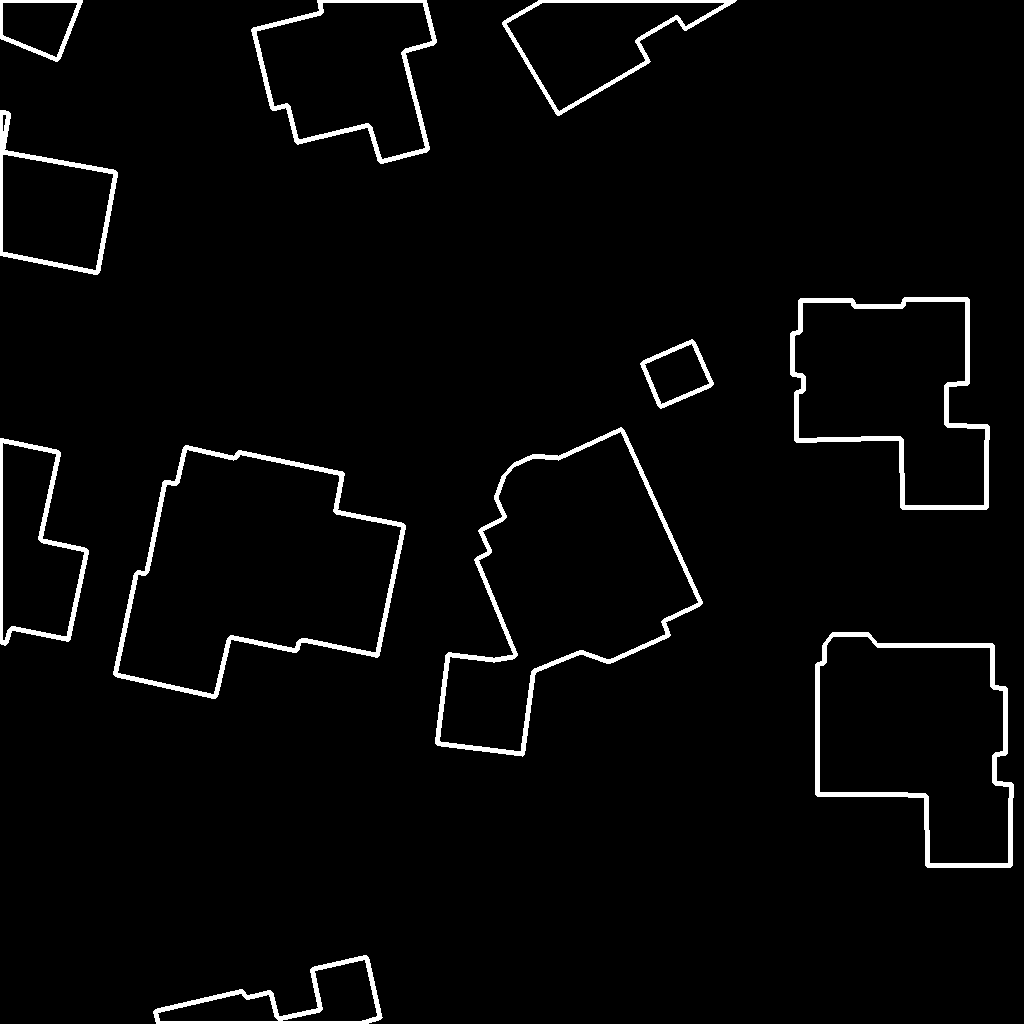building: (437, 429, 702, 755), (115, 447, 405, 698), (817, 634, 1012, 866), (792, 299, 988, 508), (253, 0, 436, 163), (504, 0, 736, 115), (0, 112, 117, 274), (0, 440, 88, 645), (155, 957, 381, 1024), (0, 0, 82, 61), (642, 341, 713, 408)
